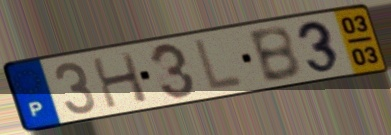3: (295, 17, 348, 76), (148, 41, 198, 101), (53, 61, 97, 116)
B: (245, 23, 304, 85)
H: (88, 49, 151, 111)
L: (192, 36, 247, 95)
